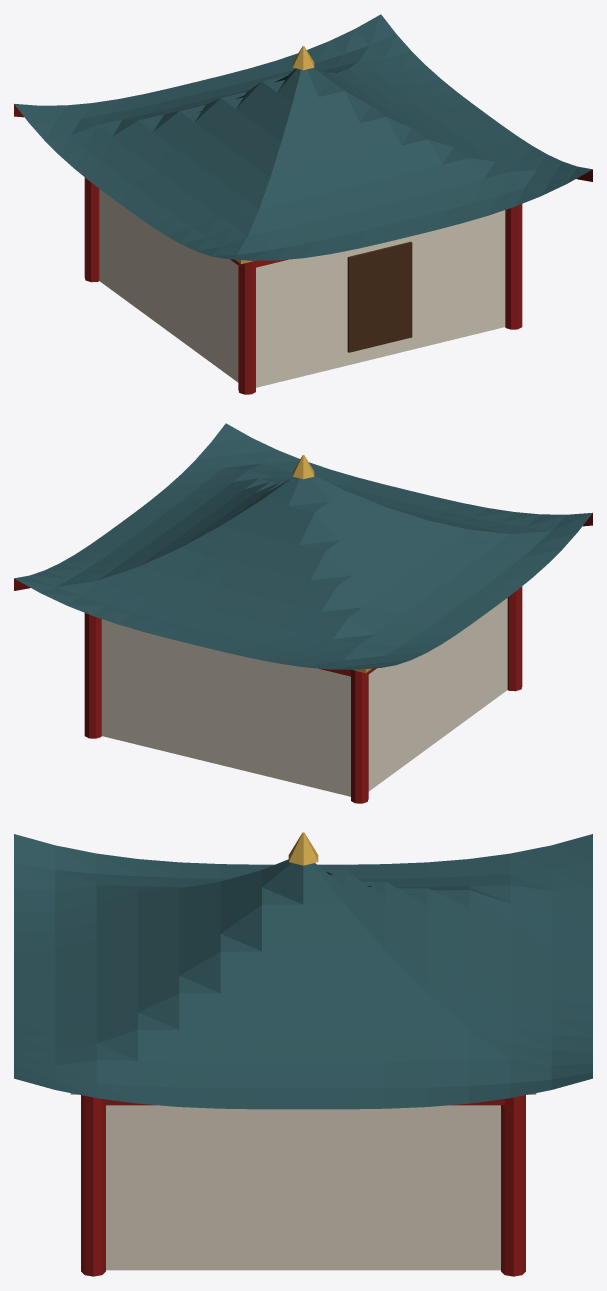
File: pagoda-tier-large.glb
The picture shows the model from 3 angles, top to bottom: view 1: azimuth 30°, elevation 25°; view 2: azimuth 150°, elevation 25°; view 3: azimuth 270°, elevation 25°; orthographic projection. The views are drawn at different scales.
Visible parts, largest first — view 1: pagoda-tier-large; view 2: pagoda-tier-large; view 3: pagoda-tier-large.
Part boxes in pixels (bbox=[...]): pagoda-tier-large: bbox=[14, 14, 592, 394]; pagoda-tier-large: bbox=[14, 423, 592, 803]; pagoda-tier-large: bbox=[14, 832, 592, 1276].
Size of the model in its own units: 10.2 by 6.8 by 10.2.
